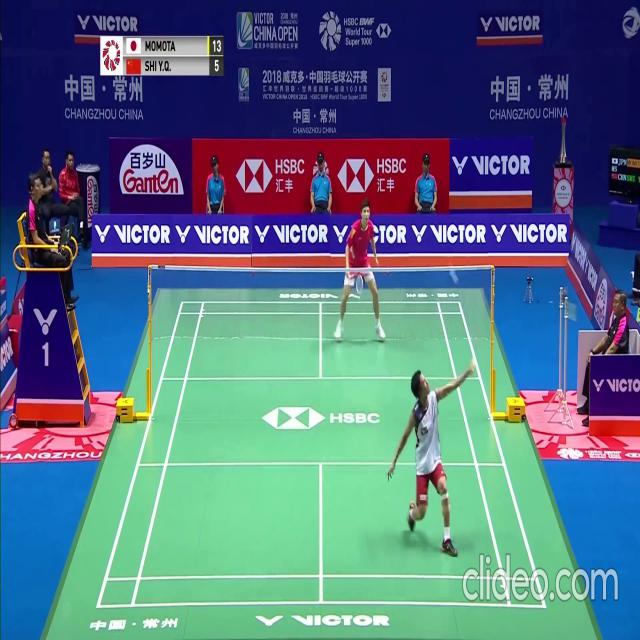Shuttlecock: (449, 266, 453, 274)
